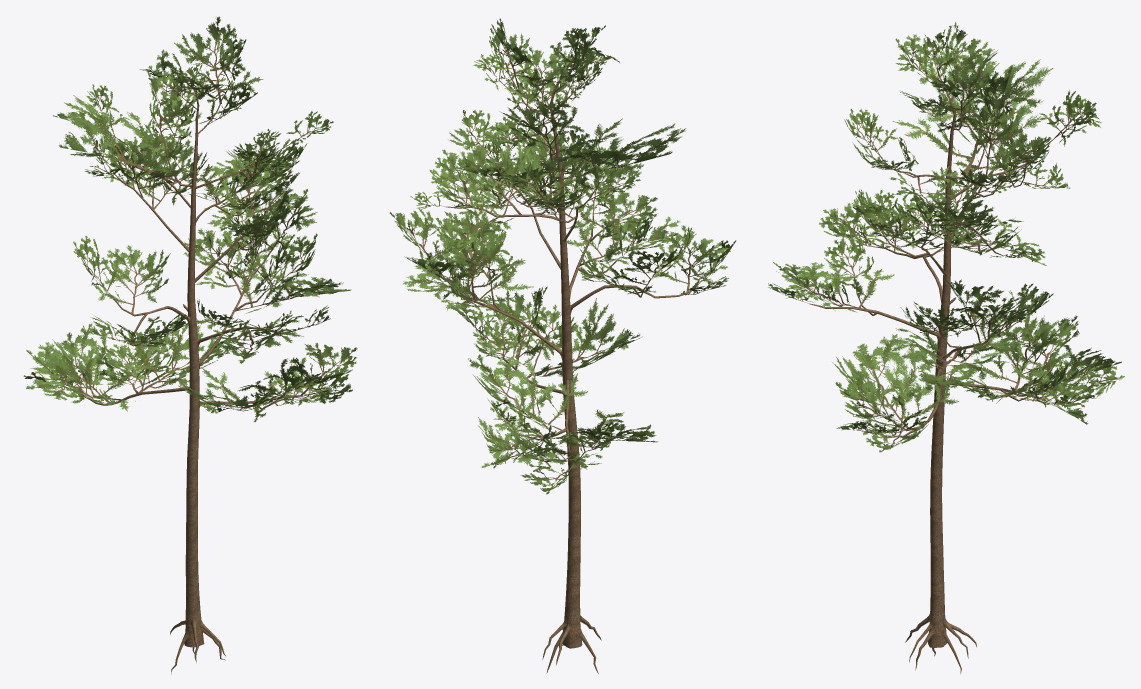
3 renders of one model, left to right at view 1: azimuth 30°, elevation 25°; view 2: azimuth 150°, elevation 25°; view 3: azimuth 270°, elevation 25°, orthographic. The views are drawn at different scales.
Visible parts, largest first — view 1: Pine_medium_2_LOD0_Bark_Mat_0; view 2: Pine_medium_2_LOD0_Bark_Mat_0; view 3: Pine_medium_2_LOD0_Bark_Mat_0.
Part boxes in pixels (left/top/right/bottom): Pine_medium_2_LOD0_Bark_Mat_0: left=23, top=16, right=357, bottom=674; Pine_medium_2_LOD0_Bark_Mat_0: left=389, top=18, right=736, bottom=673; Pine_medium_2_LOD0_Bark_Mat_0: left=768, top=22, right=1124, bottom=673.
Bounding box in the file's own units: 6.23 × 12.83 × 6.5.
